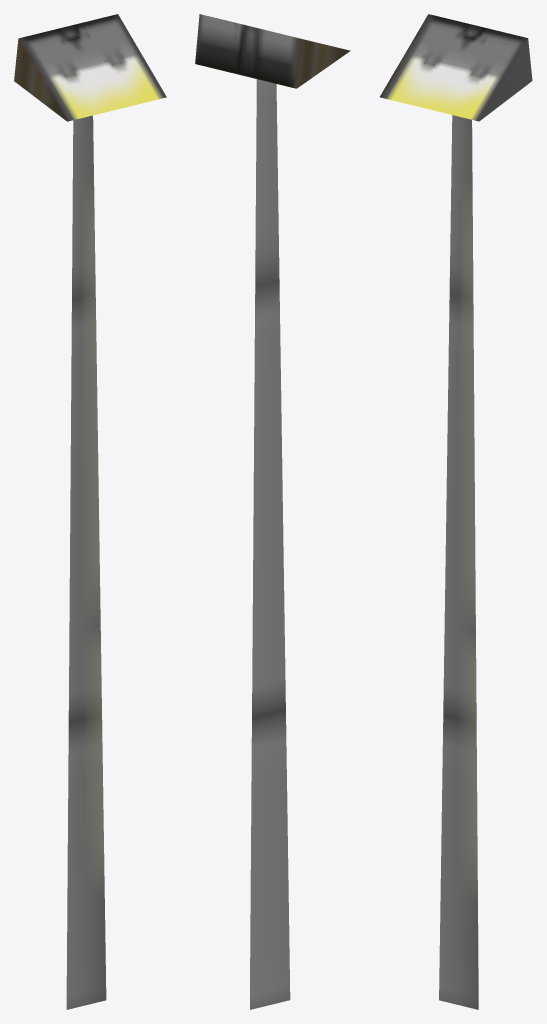
File: streetlight.glb
3 views of the same model, side by side, from view 1: azimuth 30°, elevation 25°; view 2: azimuth 150°, elevation 25°; view 3: azimuth 330°, elevation 25° (orthographic).
Parts seen in each view (by area): view 1: streetlight; view 2: streetlight; view 3: streetlight.
Boxes of the visible parts, left/top/right/bottom form: streetlight: left=14, top=14, right=166, bottom=1009; streetlight: left=195, top=14, right=350, bottom=1009; streetlight: left=380, top=14, right=532, bottom=1009.
Size of the model in its own units: 0.8932 by 8.26 by 0.8268.
Materials: 1 (1 with a texture image).
